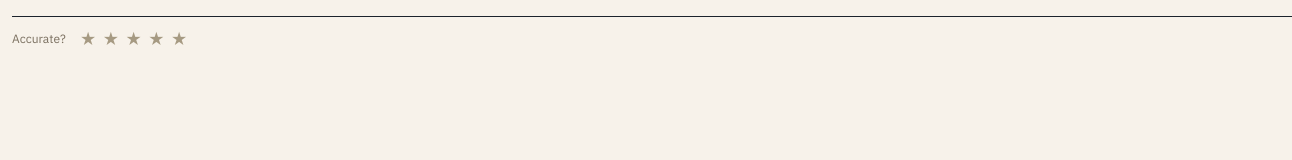
Test case: FeedbackWidget › shows an error message rather than silently failing when submission fails
Click the button named "Rate 2 out of 5" at (111, 39), box [100,29,121,49]
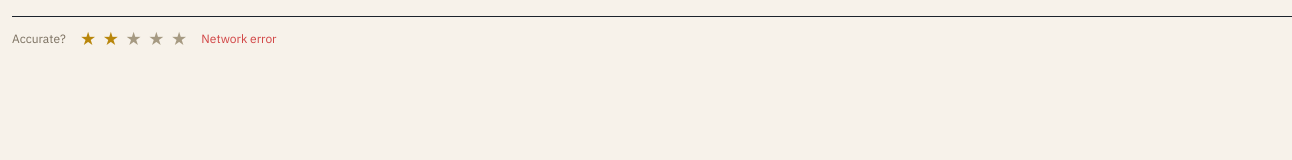
Check: the text "Network error" is shown, box [201,30,276,48]
